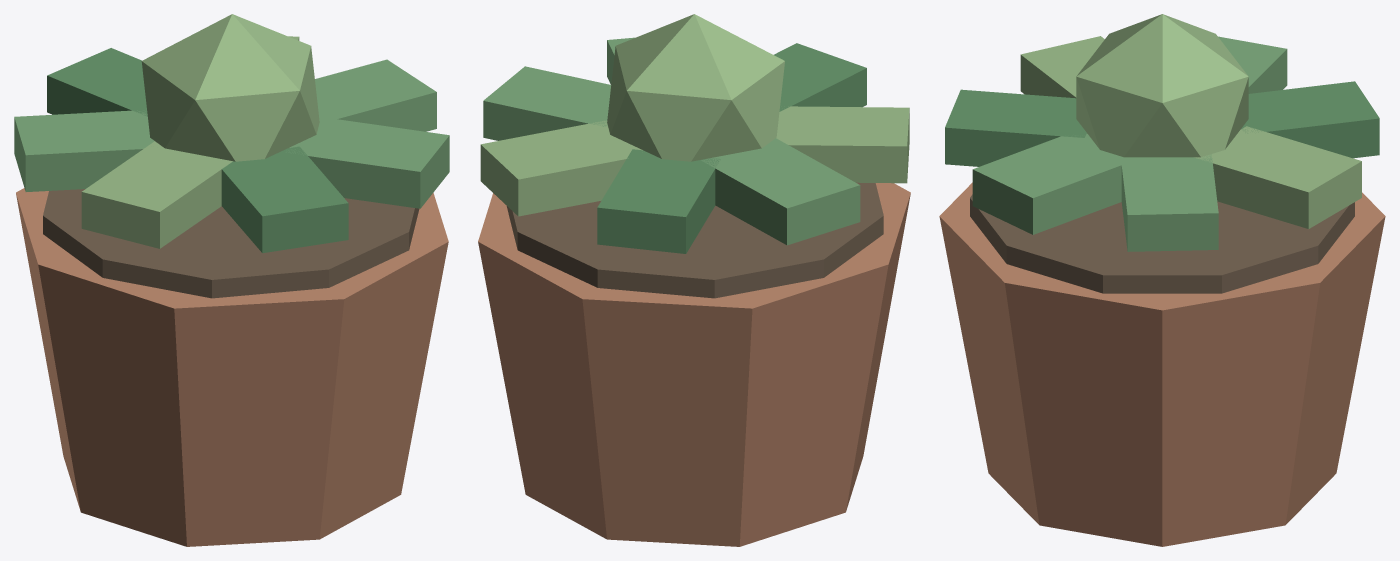
The model's file is pla_suculenta2.glb.
The picture shows the model from 3 angles, left to right: view 1: azimuth 30°, elevation 25°; view 2: azimuth 150°, elevation 25°; view 3: azimuth 270°, elevation 25°; orthographic projection.
Parts seen in each view (by area): view 1: PLA_SUCULENTA2_v01; view 2: PLA_SUCULENTA2_v01; view 3: PLA_SUCULENTA2_v01.
Part boxes in pixels (x1,y1,x2,y2): PLA_SUCULENTA2_v01: (14,14,449,546); PLA_SUCULENTA2_v01: (478,14,910,546); PLA_SUCULENTA2_v01: (939,14,1385,546).
Bounding box in the file's own units: 0.22 × 0.25 × 0.22.
